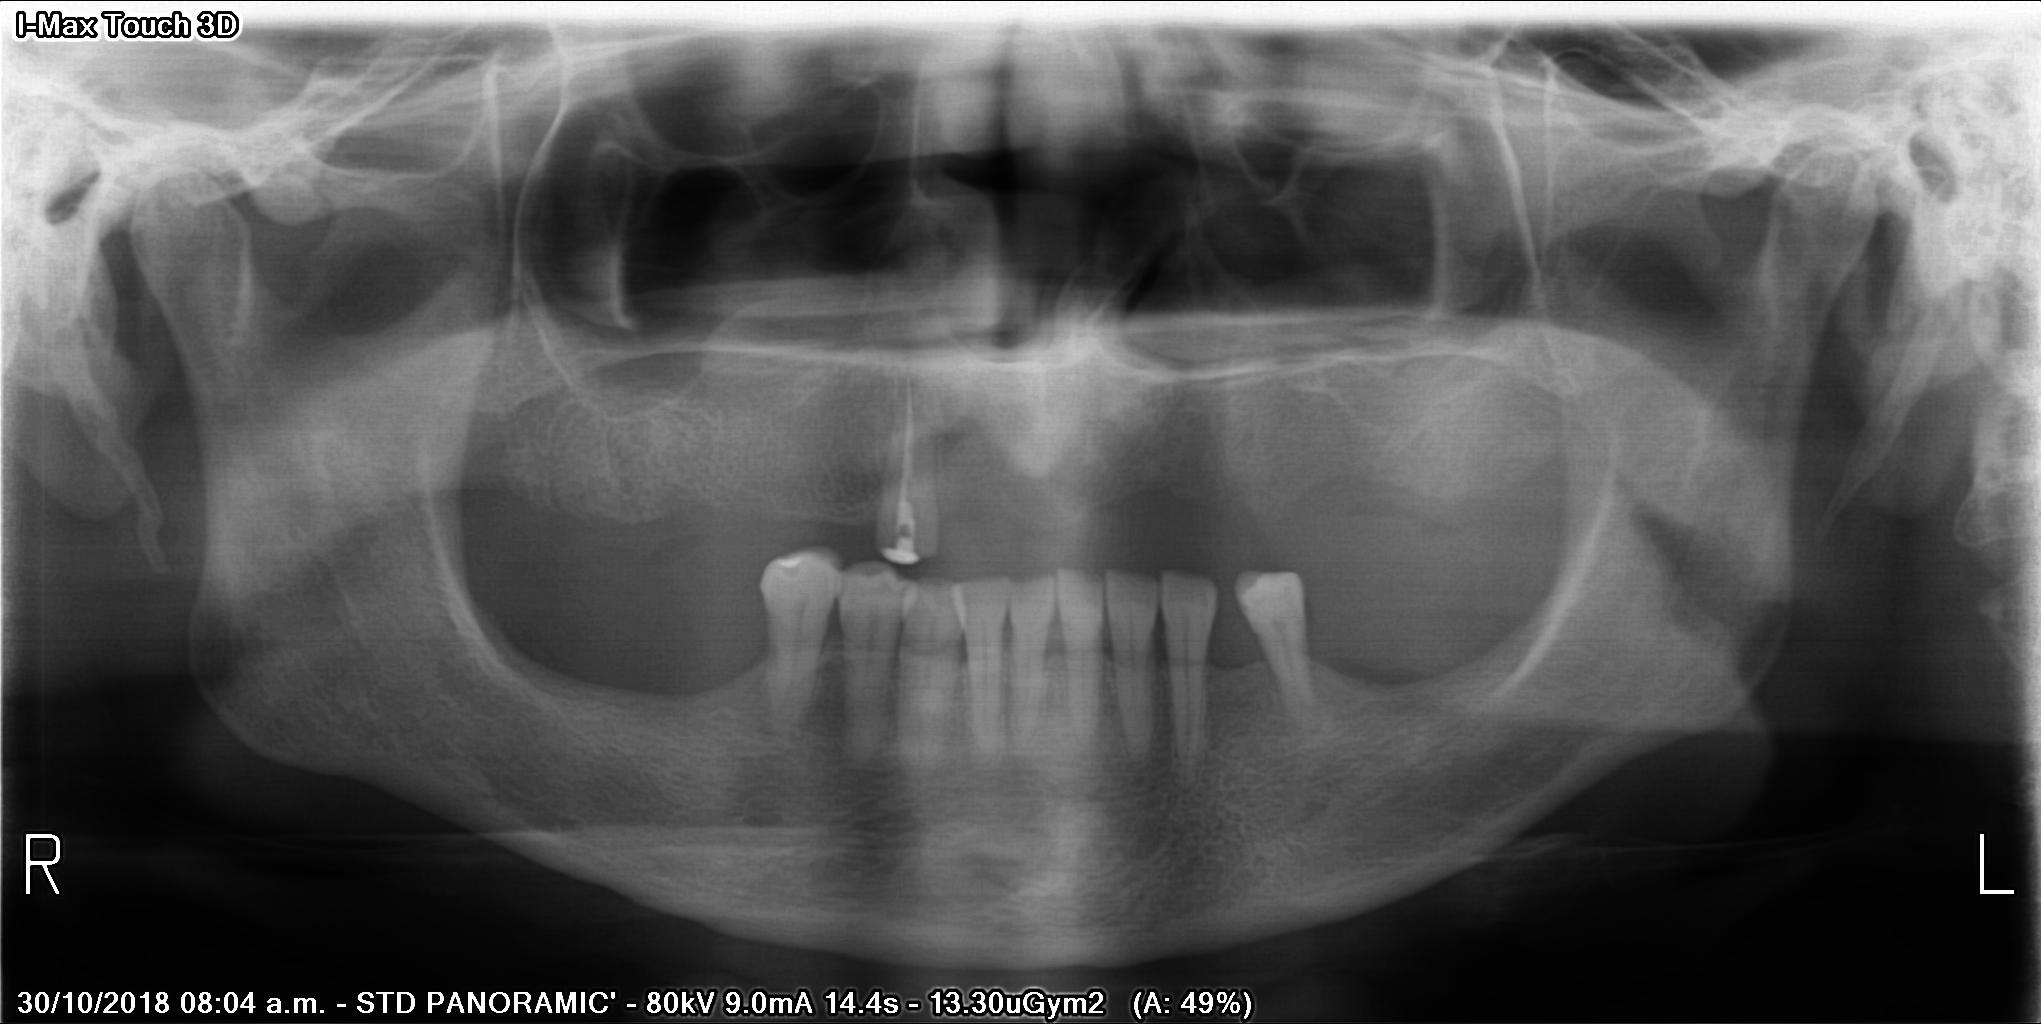Çürük: (878, 499, 922, 566)
